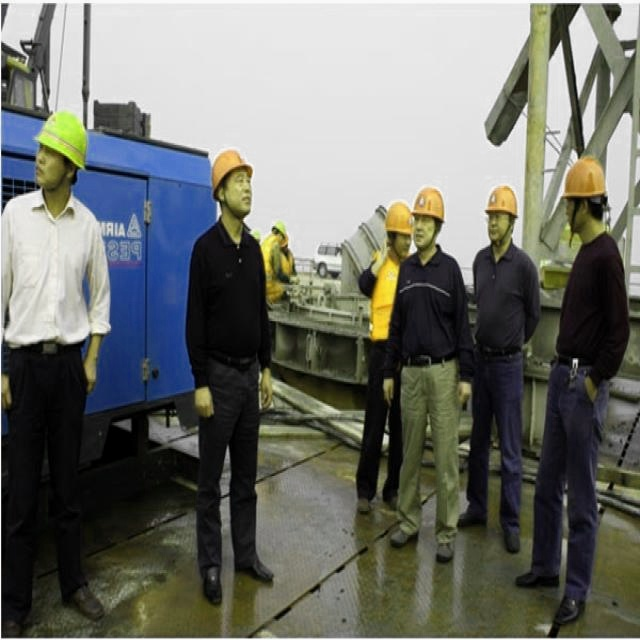Con_Casco: (33, 112, 87, 187), (210, 146, 256, 216)
Sin_Chaleco: (0, 192, 111, 348), (190, 220, 266, 376)
